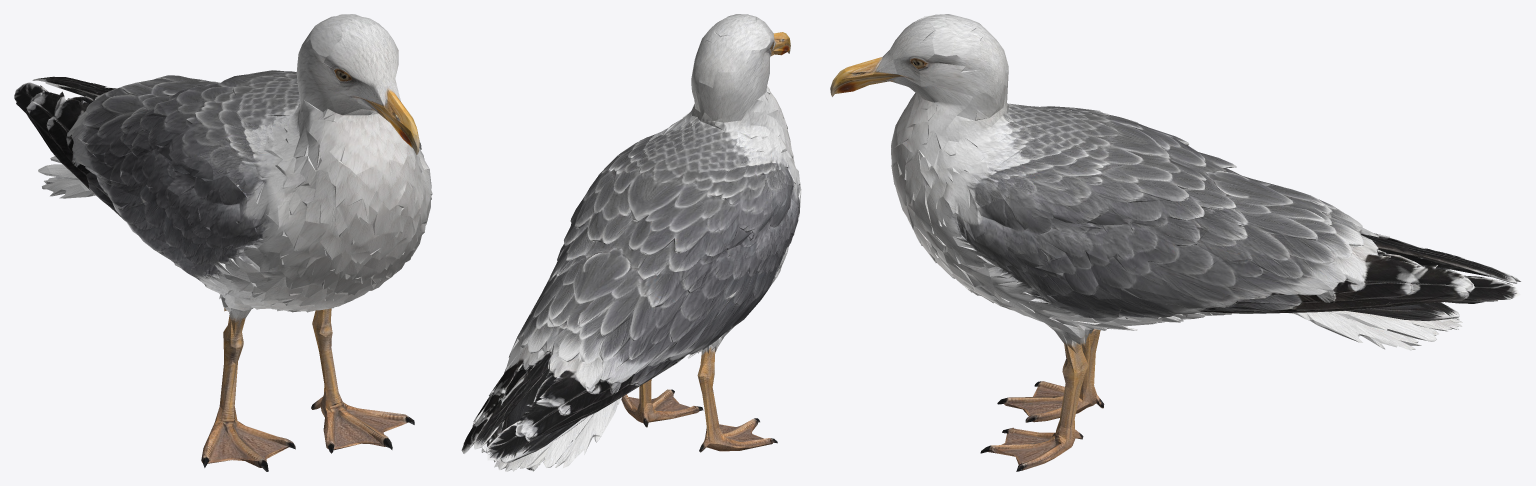
File: seagull.glb
The picture shows the model from 3 angles, left to right: view 1: azimuth 30°, elevation 25°; view 2: azimuth 150°, elevation 25°; view 3: azimuth 270°, elevation 25°; orthographic projection. The views are drawn at different scales.
Parts seen in each view (by area): view 1: output_unwrapped; view 2: output_unwrapped; view 3: output_unwrapped.
Boxes of the visible parts, x1,y1,x2,y2 form: output_unwrapped: (14, 14, 432, 471); output_unwrapped: (461, 14, 801, 471); output_unwrapped: (830, 14, 1520, 471).
Bounding box in the file's own units: 0.1727 × 0.35 × 0.5324.
Materials: 1 (1 with a texture image).
